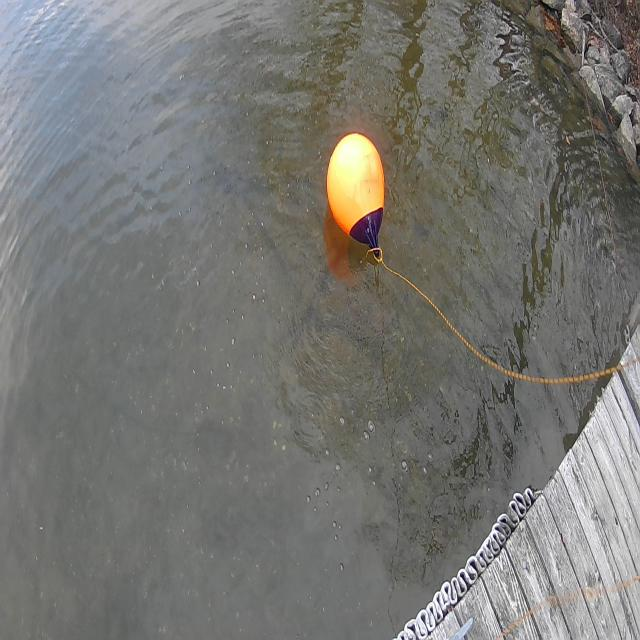Buoy: (321, 124, 391, 264)
